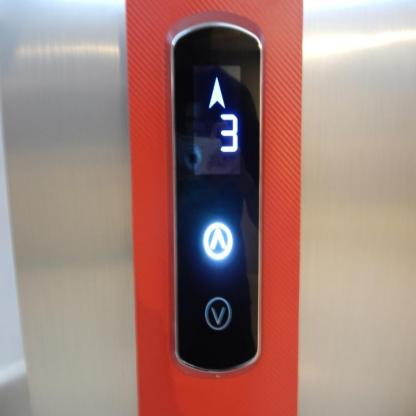down: (204, 295, 231, 330)
led: (189, 63, 242, 178)
up: (203, 220, 233, 260)
